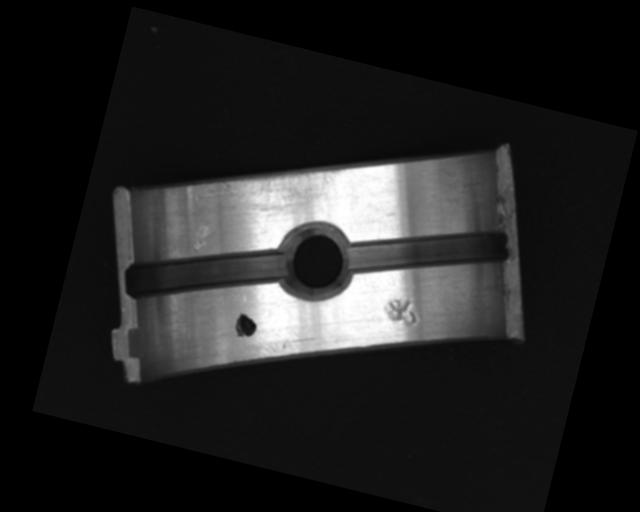blot: (231, 311, 259, 341)
bruise: (380, 293, 422, 329), (190, 221, 213, 254)
gap: (121, 219, 290, 332), (343, 197, 513, 307)
hole: (269, 215, 360, 308)
scratch: (207, 137, 348, 231)
